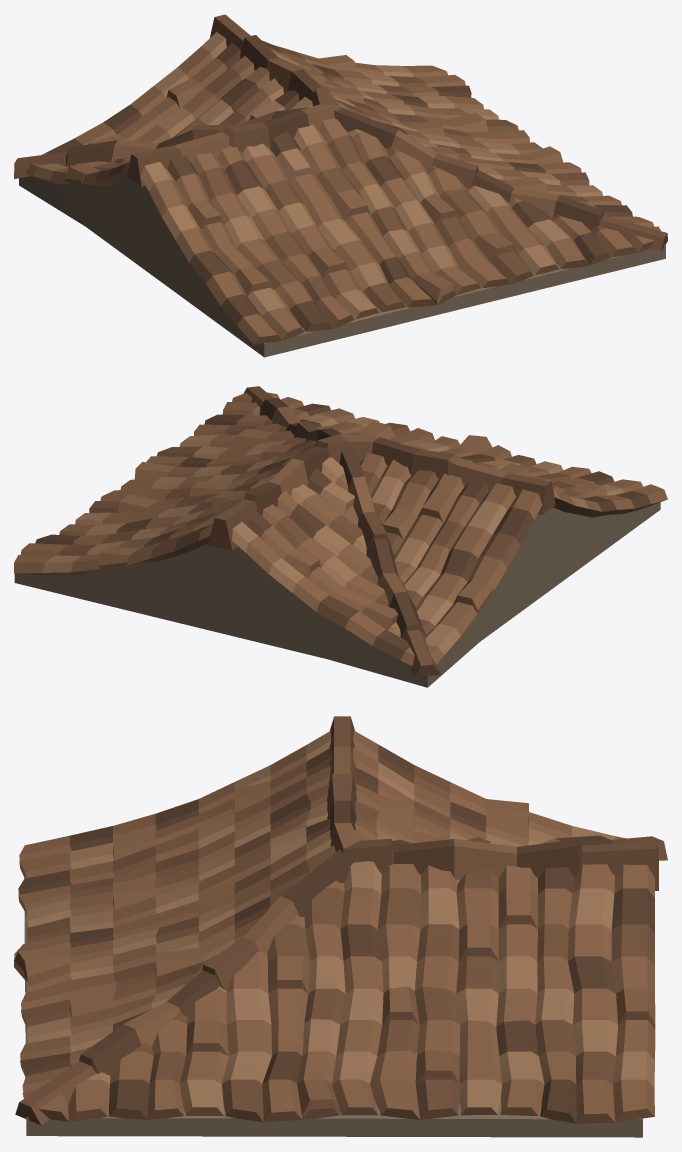
File: SM_Bld_Cuba_Roof_04.glb
The picture shows the model from 3 angles, top to bottom: view 1: azimuth 30°, elevation 25°; view 2: azimuth 150°, elevation 25°; view 3: azimuth 270°, elevation 25°; orthographic projection. The views are drawn at different scales.
Parts seen in each view (by area): view 1: SM_Bld_Cuba_Roof_04; view 2: SM_Bld_Cuba_Roof_04; view 3: SM_Bld_Cuba_Roof_04.
Part boxes in pixels (left/top/right/bottom): SM_Bld_Cuba_Roof_04: left=14, top=14, right=667, bottom=357; SM_Bld_Cuba_Roof_04: left=14, top=386, right=667, bottom=687; SM_Bld_Cuba_Roof_04: left=14, top=716, right=667, bottom=1137.
Bounding box in the file's own units: 0.0434 × 0.0117 × 0.0432.
